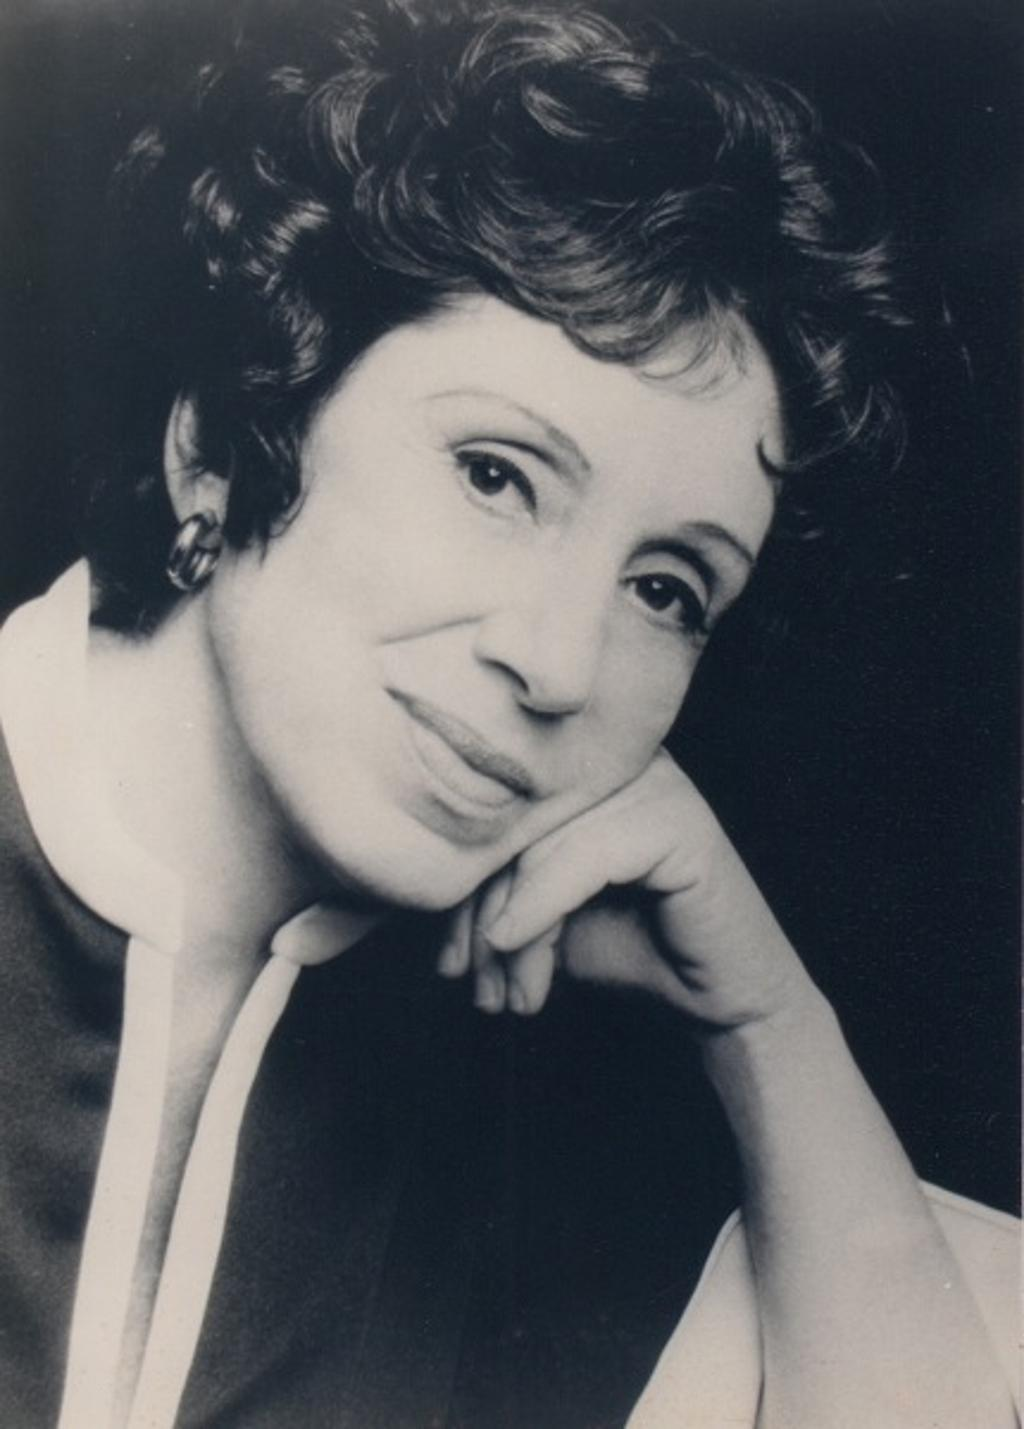face: (274, 255, 771, 911)
